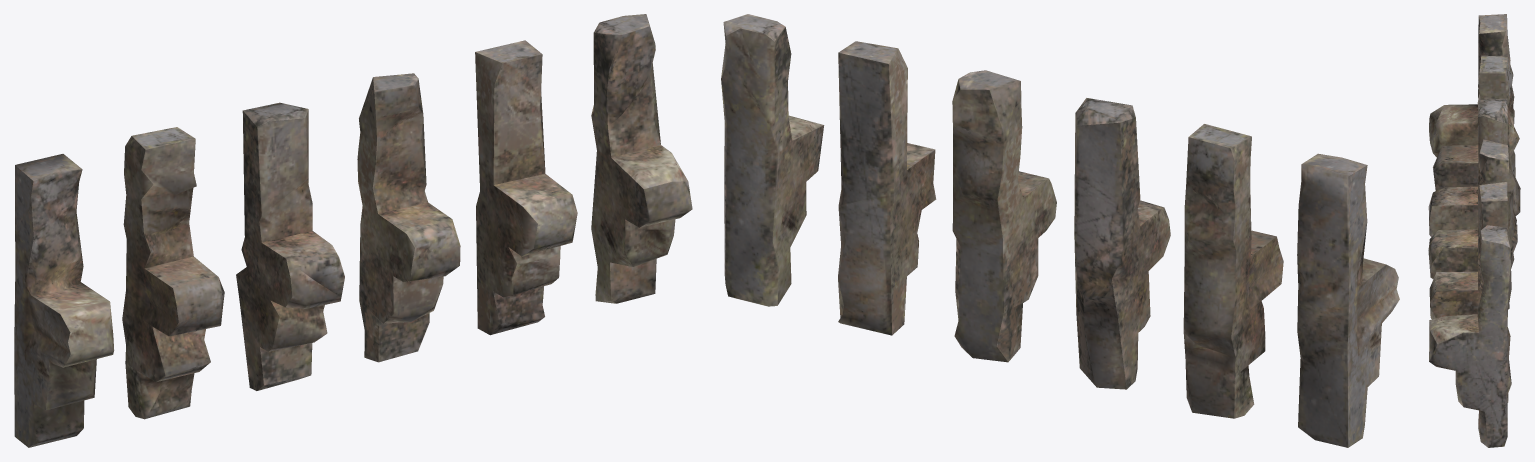
File: SM_Capping01.FBX
The picture shows the model from 3 angles, left to right: view 1: azimuth 30°, elevation 25°; view 2: azimuth 150°, elevation 25°; view 3: azimuth 270°, elevation 25°; orthographic projection. The views are drawn at different scales.
Visible parts, largest first — view 1: SM_Capping01; view 2: SM_Capping01; view 3: SM_Capping01.
Boxes of the visible parts, <box> form: SM_Capping01: <box>14,14,692,447</box>; SM_Capping01: <box>721,14,1399,447</box>; SM_Capping01: <box>1428,14,1520,447</box>.
Size of the model in its own units: 560 by 94.69 by 234.
